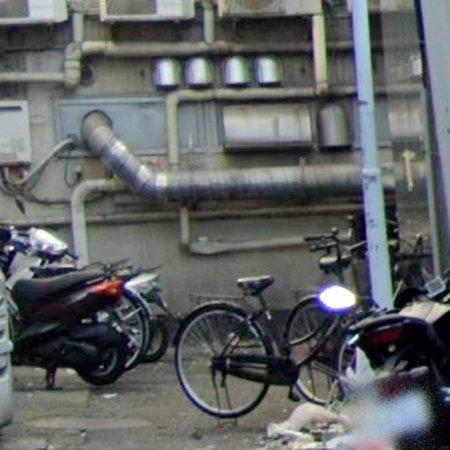motorcycles: (11, 268, 131, 387)
